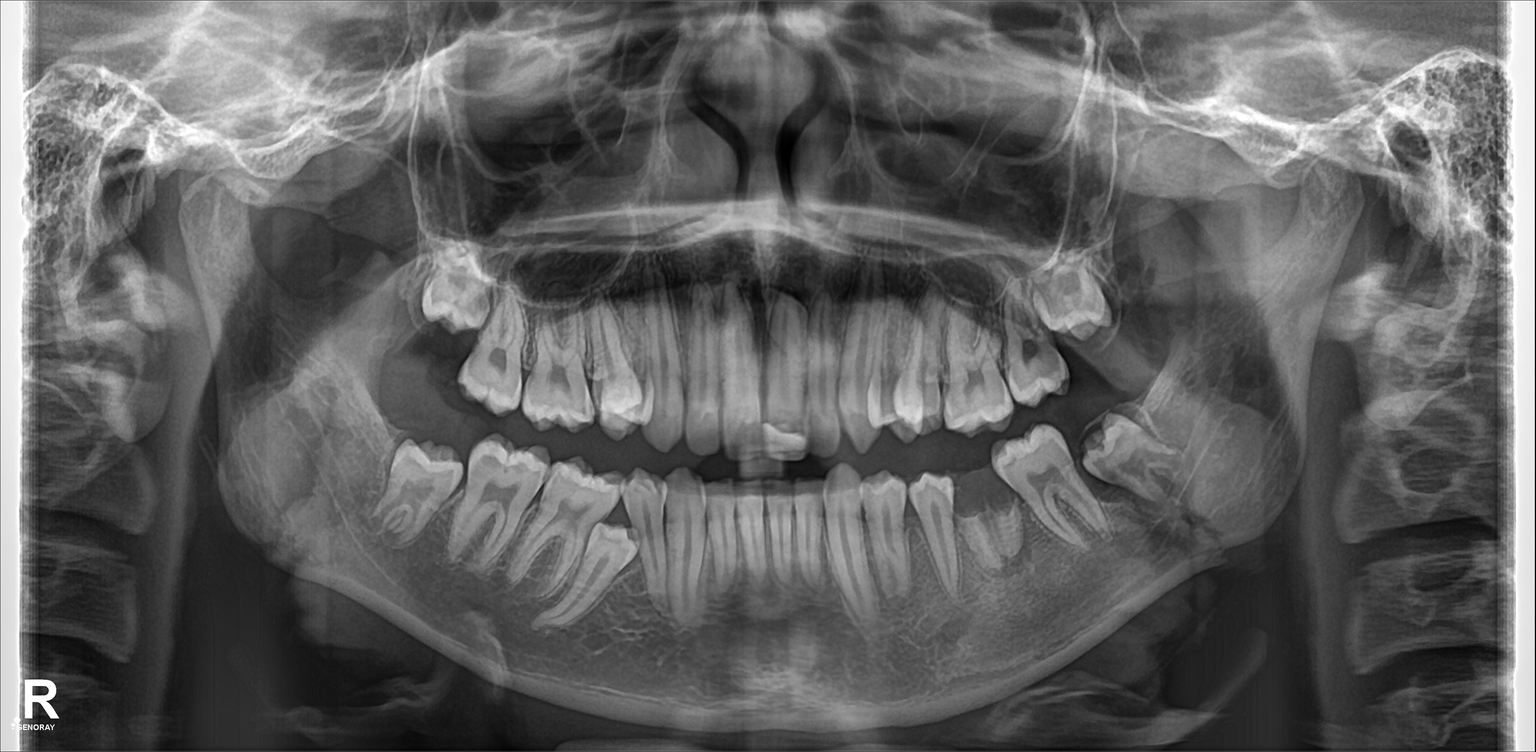Impacted Third Molar: (417, 242, 490, 331), (1089, 413, 1172, 487), (1043, 268, 1110, 332)
Retained Root: (948, 477, 1026, 575)
